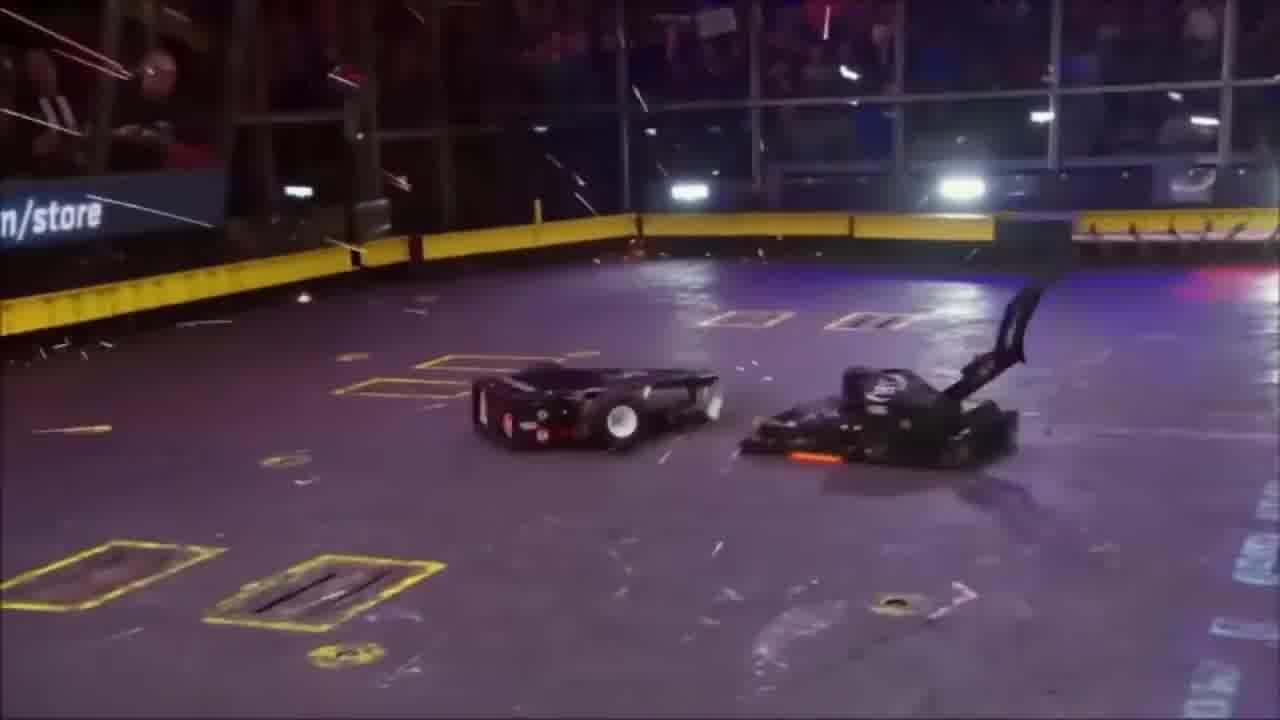combatbot: (739, 366, 1021, 466), (466, 364, 723, 455)
